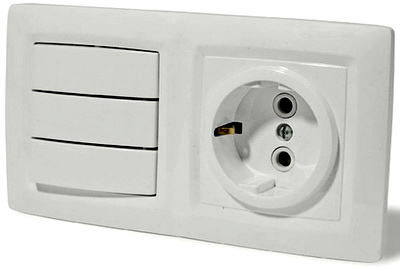raccoon: (209, 78, 322, 200)
